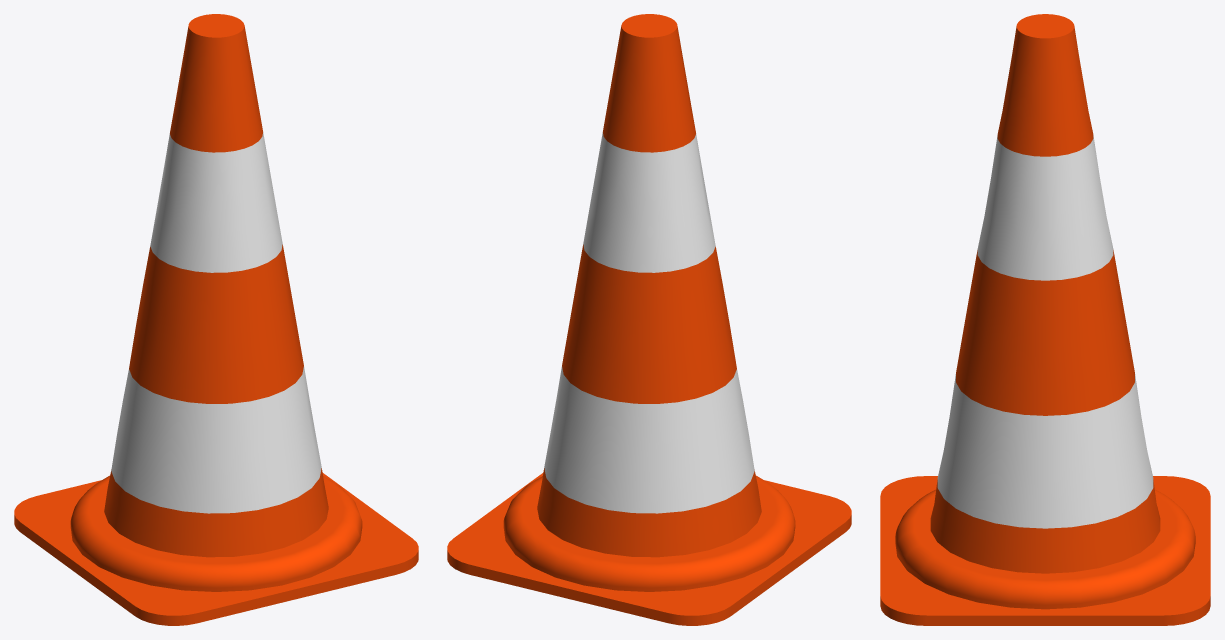
File: BigOrange.glb
3 views of the same model, side by side, from view 1: azimuth 30°, elevation 25°; view 2: azimuth 150°, elevation 25°; view 3: azimuth 270°, elevation 25° (orthographic). The views are drawn at different scales.
Visible parts, largest first — view 1: BooleanFragments; view 2: BooleanFragments; view 3: BooleanFragments.
Part boxes in pixels (x1=…): BooleanFragments: x1=14, y1=14, x2=418, y2=625; BooleanFragments: x1=447, y1=14, x2=851, y2=625; BooleanFragments: x1=880, y1=14, x2=1210, y2=625.
Size of the model in its own units: 0.285 by 0.505 by 0.285.
